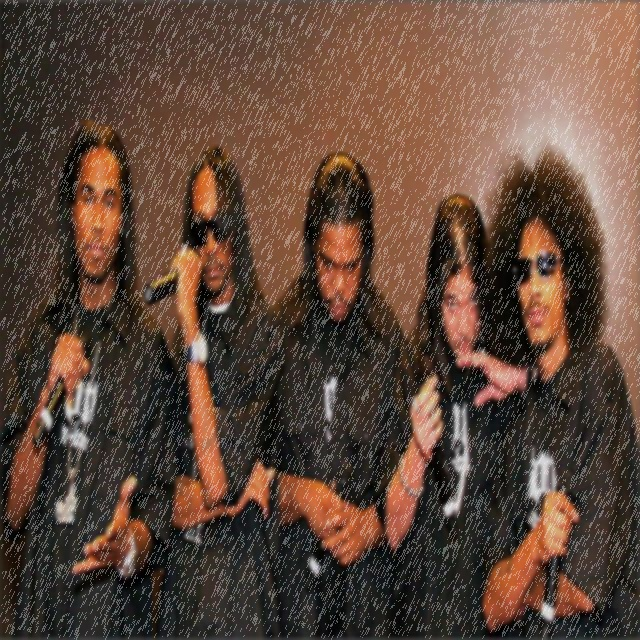pessoa: (0, 104, 186, 638), (470, 140, 640, 638), (370, 188, 541, 638), (154, 141, 288, 638), (272, 147, 406, 638)
